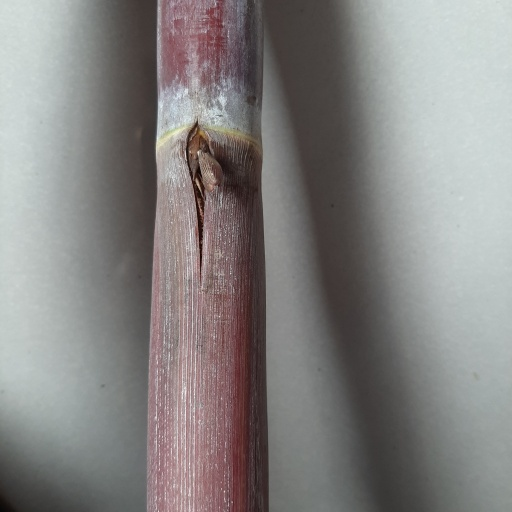Damage_Bud: (184, 126, 220, 209)
